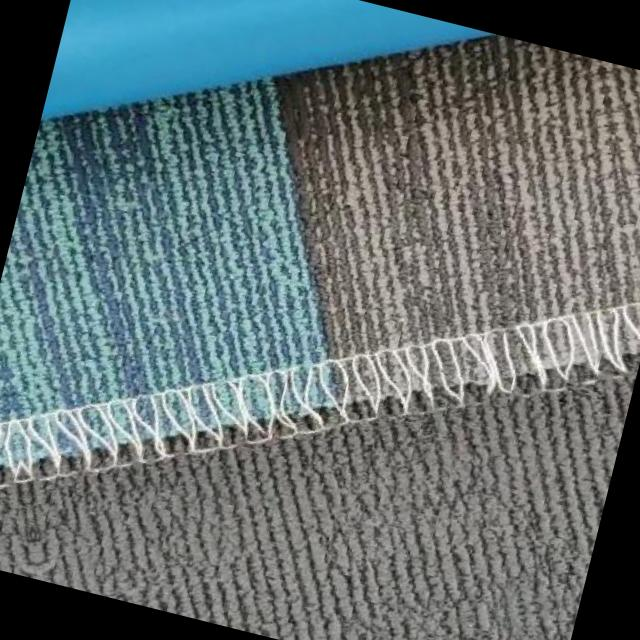gray stitch: (269, 221, 640, 521), (0, 293, 288, 563)
